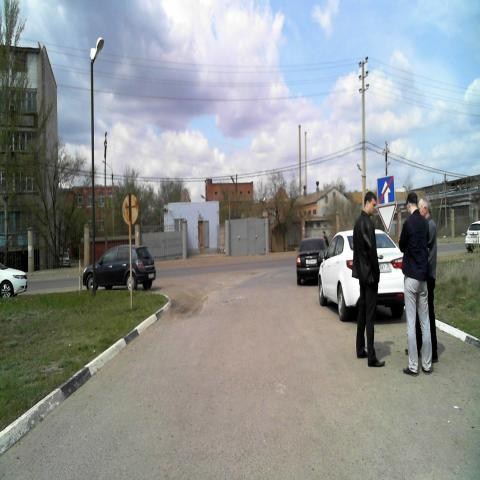5_6: (377, 174, 395, 205)
